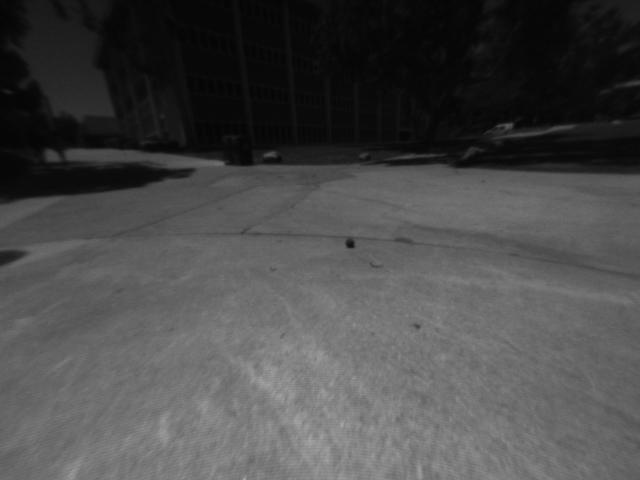dogtoy: (340, 234, 363, 252)
